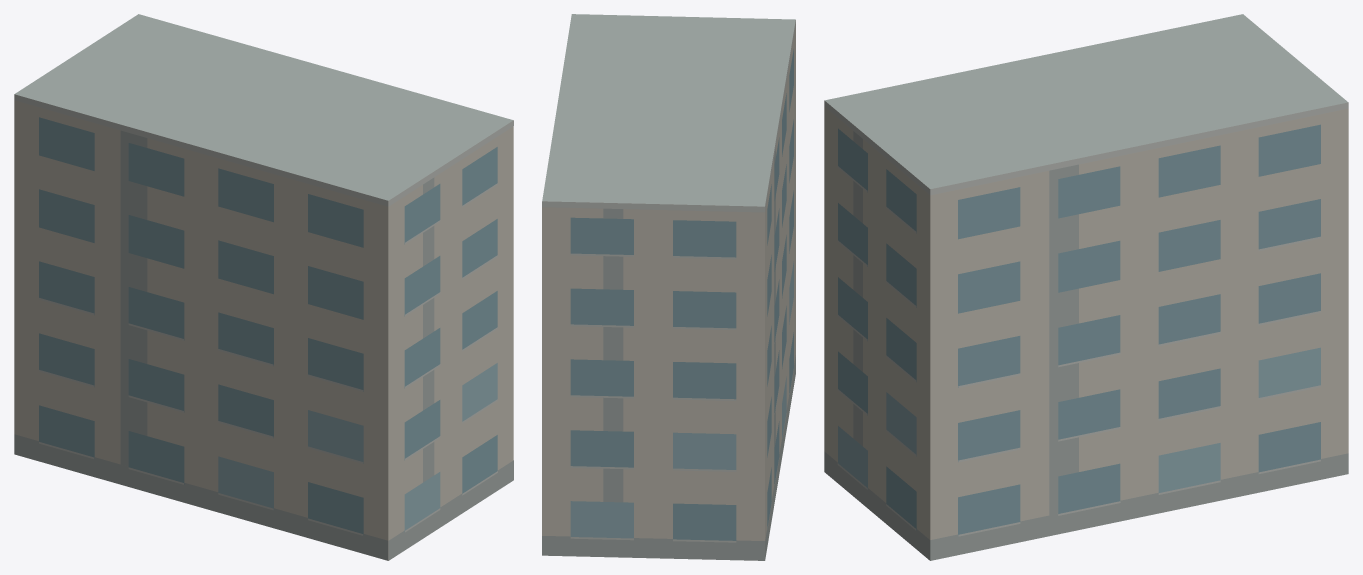
The model's file is survey-upis-32906553.glb.
3 views of the same model, side by side, from view 1: azimuth 30°, elevation 25°; view 2: azimuth 150°, elevation 25°; view 3: azimuth 270°, elevation 25° (orthographic). The views are drawn at different scales.
Visible parts, largest first — view 1: survey-upis-32906553.tmp; view 2: survey-upis-32906553.tmp; view 3: survey-upis-32906553.tmp.
Boxes of the visible parts, x1,y1,x2,y2 form: survey-upis-32906553.tmp: (14,14,513,560); survey-upis-32906553.tmp: (542,14,795,560); survey-upis-32906553.tmp: (824,14,1348,560).
Bounding box in the file's own units: 14.98 × 14.8 × 18.92.
